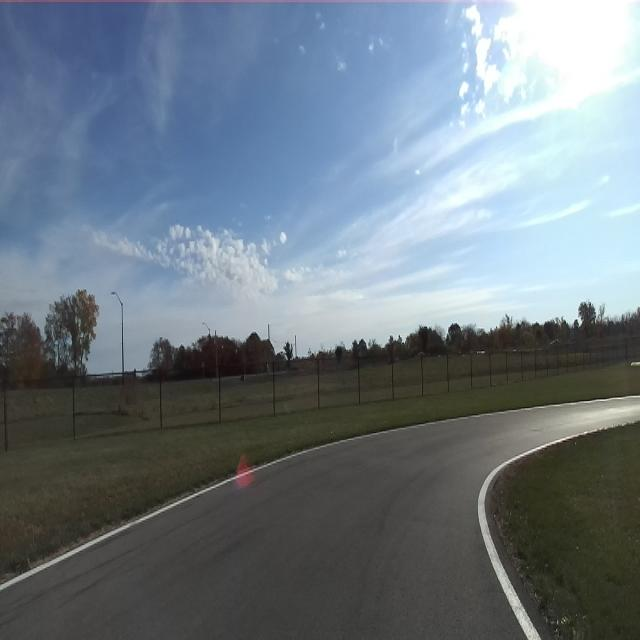white-line: (0, 422, 431, 592), (479, 426, 612, 639)
